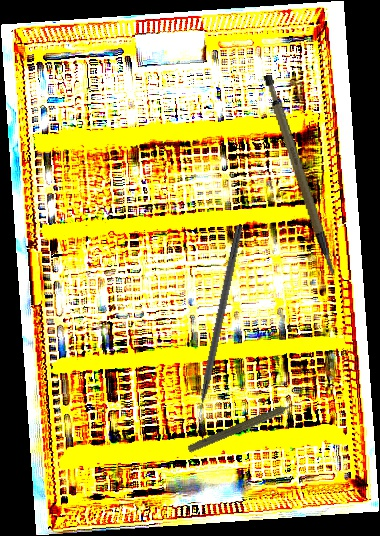Handpiece: (186, 395, 307, 458)
Hook Surgical: (189, 224, 245, 436)
Scalpel Handle: (260, 69, 336, 282)
